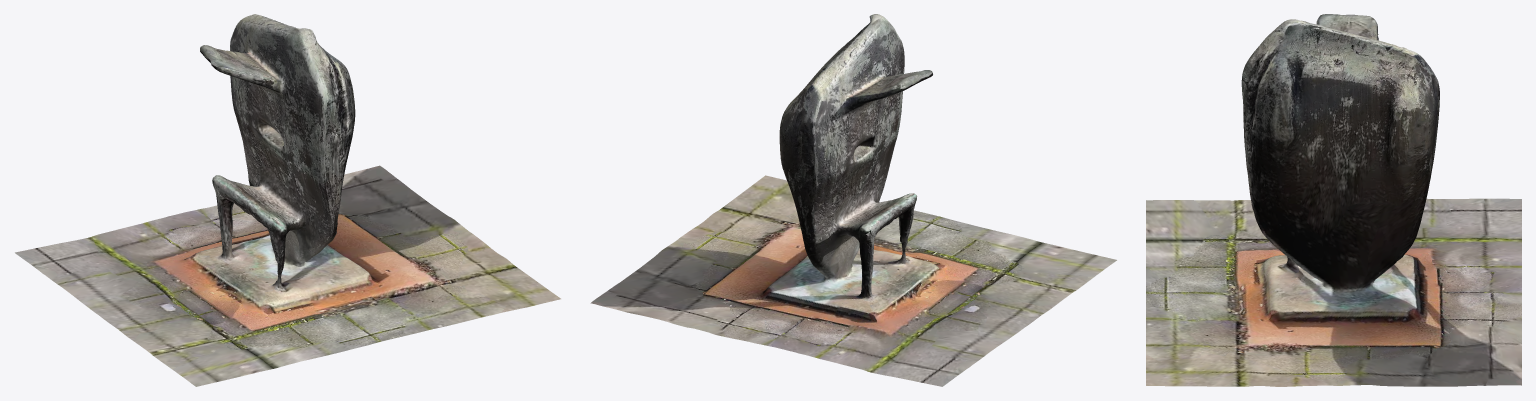
File: preview.glb
The picture shows the model from 3 angles, left to right: view 1: azimuth 30°, elevation 25°; view 2: azimuth 150°, elevation 25°; view 3: azimuth 270°, elevation 25°; orthographic projection. The views are drawn at different scales.
Visible parts, largest first — view 1: mesh; view 2: mesh; view 3: mesh.
Boxes of the visible parts, <box> form: mesh: <box>15,14,560,386</box>; mesh: <box>590,14,1116,386</box>; mesh: <box>1146,14,1521,386</box>.
Size of the model in its own units: 2.5 by 1.73 by 2.15.
1 material, 1 textured.
